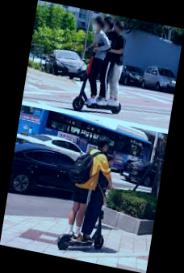multiple: (56, 129, 121, 259), (72, 12, 135, 118)
